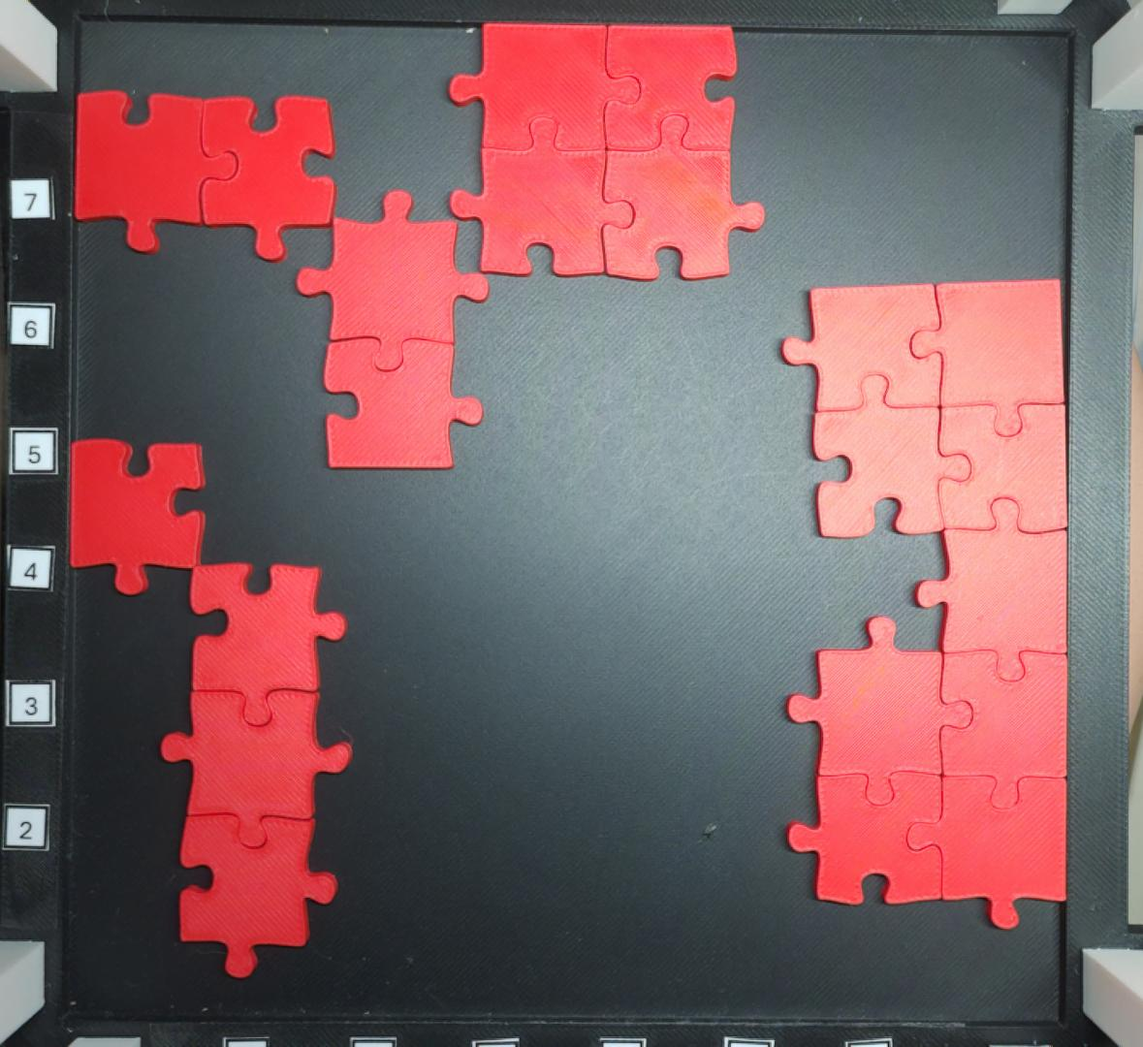p_1: (65, 438, 207, 598)
p_2: (298, 189, 489, 469), (74, 89, 336, 264)
p_3: (159, 562, 352, 980)
p_4: (450, 20, 767, 283)
p_m: (778, 277, 1069, 931)
